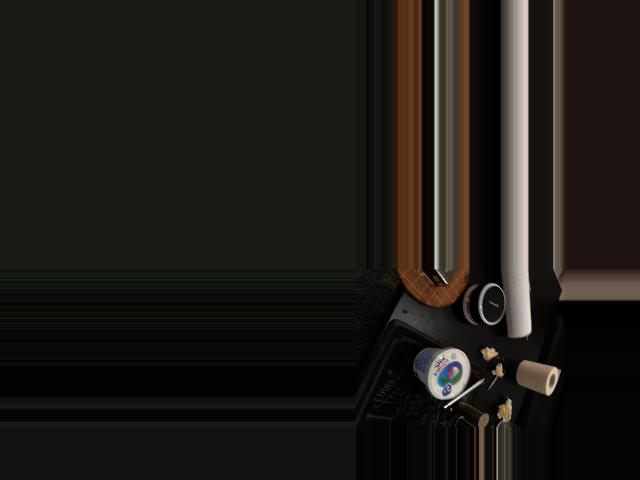cotage: (409, 350, 467, 400)
